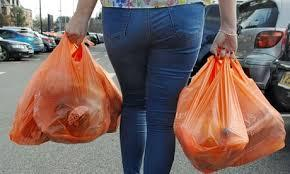Plastic bag: (172, 44, 286, 174), (10, 27, 126, 152)
